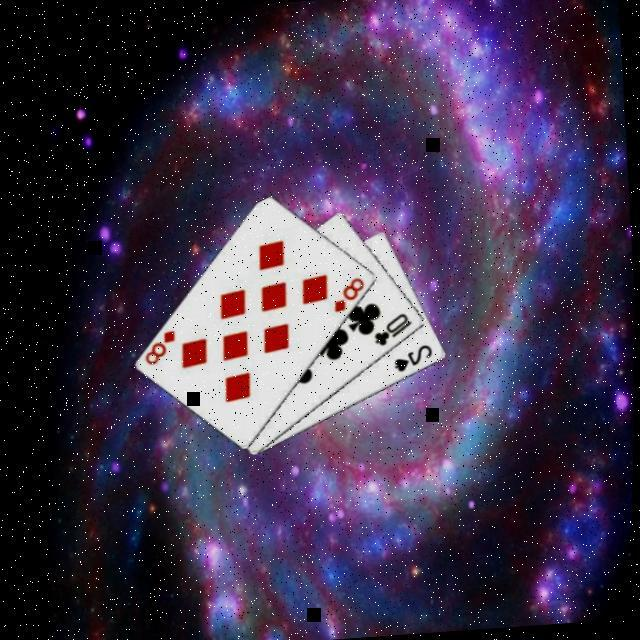10C: (372, 307, 419, 348)
2S: (393, 339, 439, 373)
8D: (331, 272, 373, 315), (143, 325, 182, 367)
